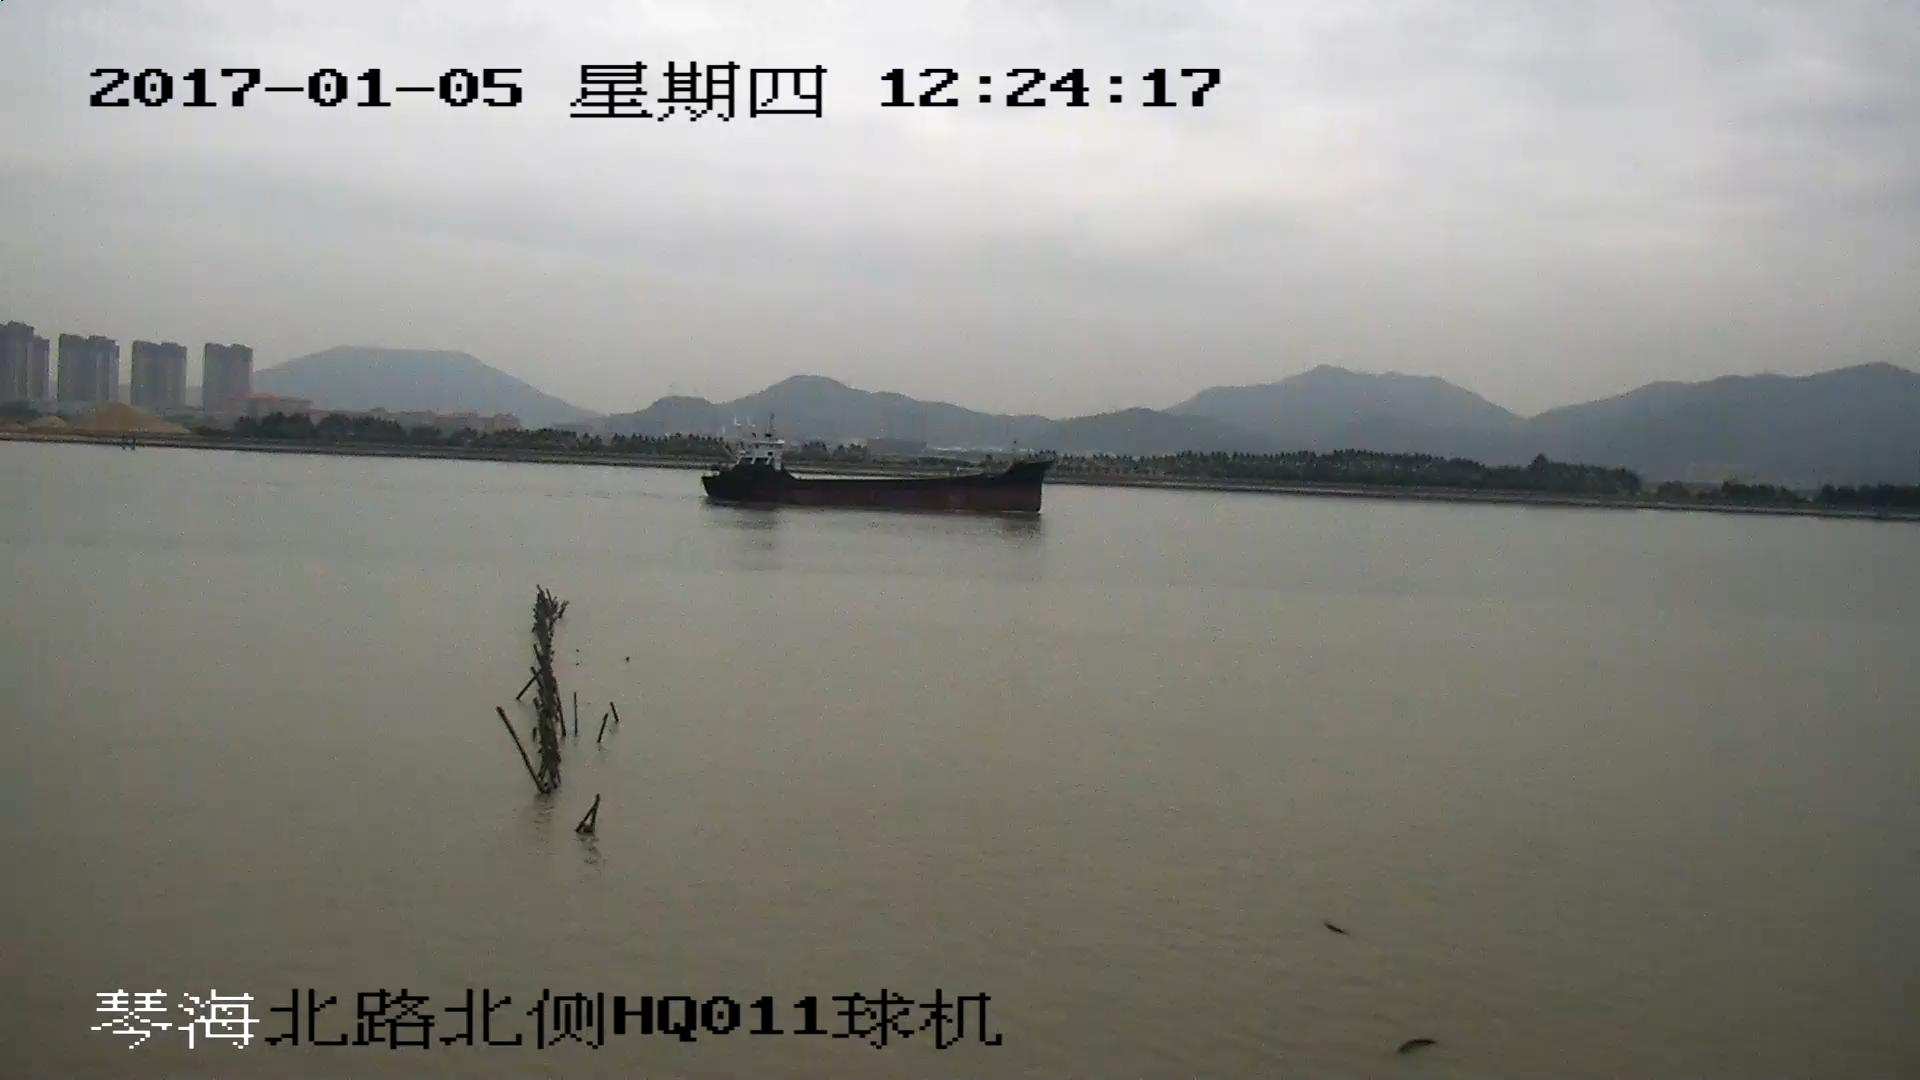general cargo ship: (698, 439, 1055, 516)
